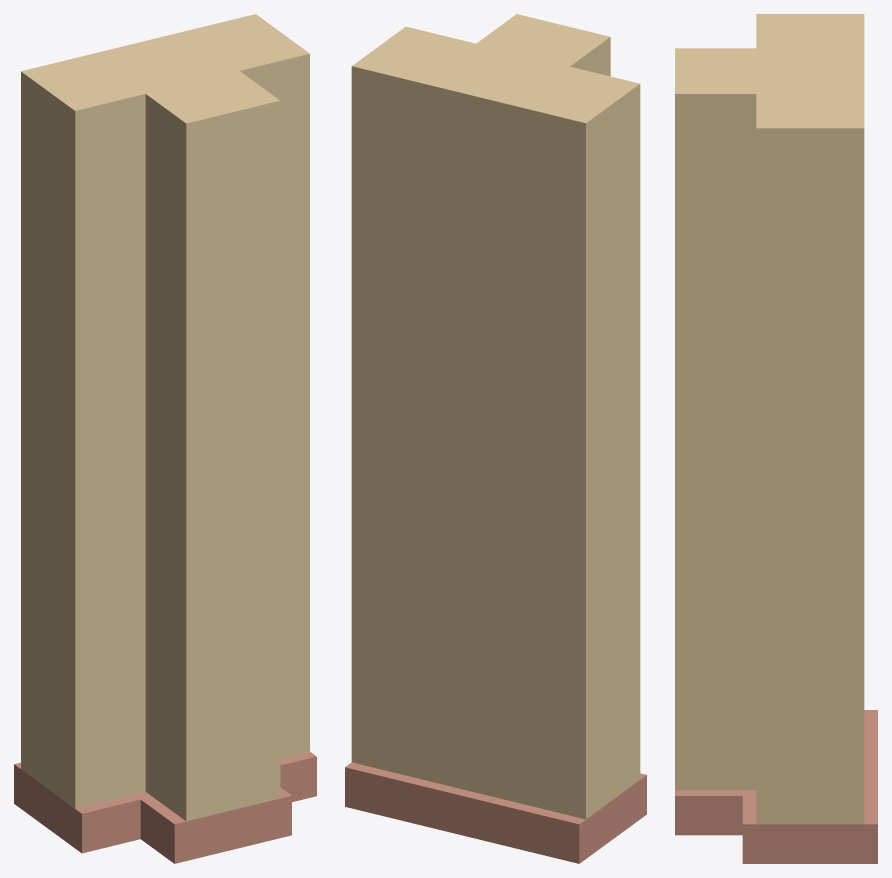
File: Wall_T.glb
3 renders of one model, left to right at view 1: azimuth 30°, elevation 25°; view 2: azimuth 150°, elevation 25°; view 3: azimuth 270°, elevation 25°, orthographic.
Parts seen in each view (by area): view 1: Wall_T; view 2: Wall_T; view 3: Wall_T.
Boxes of the visible parts, box(x1,y1,x2,y2) form: Wall_T: box(14, 14, 316, 863); Wall_T: box(345, 14, 646, 863); Wall_T: box(675, 14, 877, 863).
Bounding box in the file's own units: 1 × 3 × 0.75.
